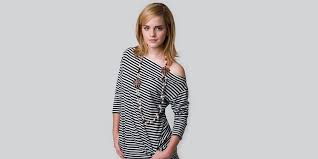person: (112, 7, 194, 99)
